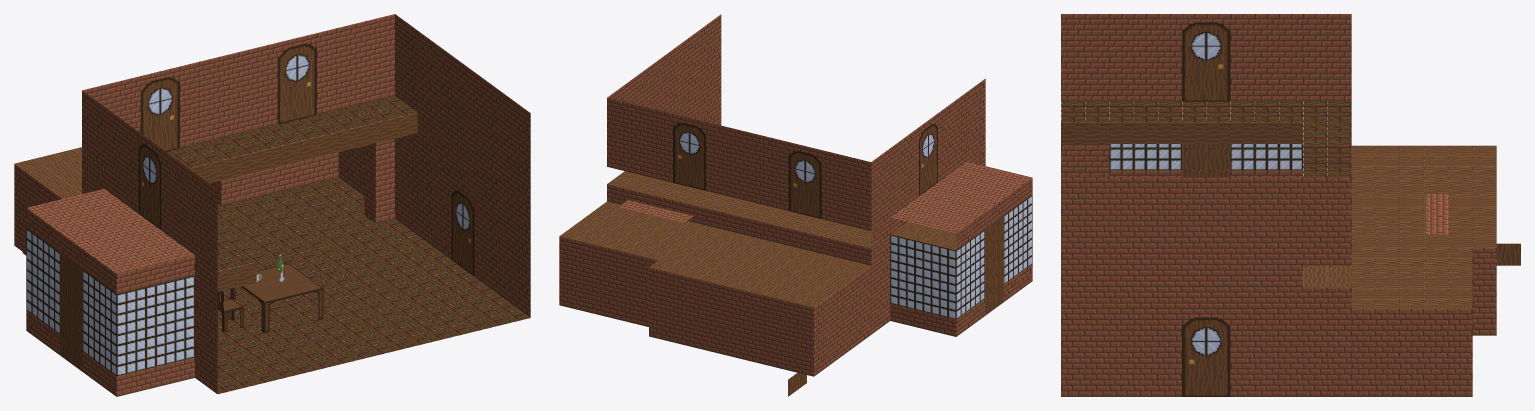
The model's file is Cato's House Rough Render.dae.
3 views of the same model, side by side, from view 1: azimuth 30°, elevation 25°; view 2: azimuth 150°, elevation 25°; view 3: azimuth 270°, elevation 25° (orthographic). The views are drawn at different scales.
Visible parts, largest first — view 1: default, Object 3686; view 2: default; view 3: default.
Part boxes in pixels (bbox=[...]): default: bbox=[14, 14, 530, 396]; Object 3686: bbox=[217, 291, 243, 331]; default: bbox=[559, 14, 1032, 396]; default: bbox=[1061, 14, 1520, 396].
Size of the model in its own units: 20 by 11 by 19.
Materials: 1 (1 with a texture image).
